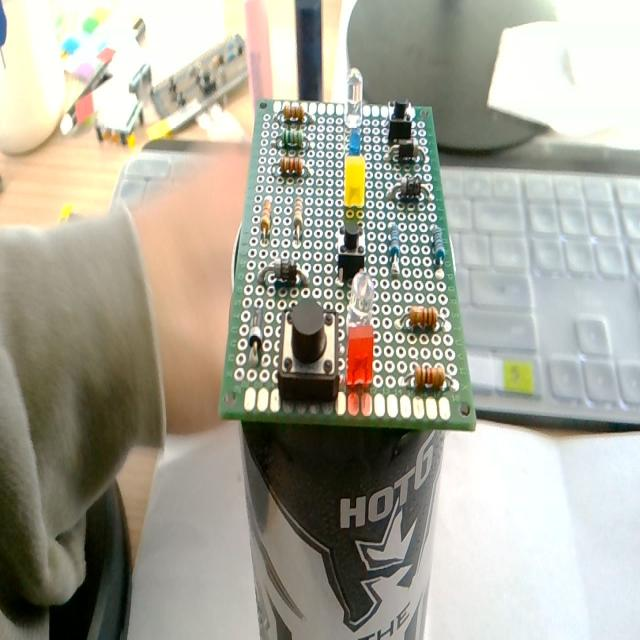diode: (258, 258, 308, 288), (246, 304, 264, 366), (386, 177, 427, 204), (385, 142, 424, 168)
led: (345, 322, 376, 388), (344, 155, 366, 207), (345, 67, 363, 130)
resistor: (406, 362, 454, 391), (399, 303, 440, 335), (271, 130, 311, 146), (389, 224, 400, 277), (432, 226, 446, 264), (280, 155, 303, 177), (261, 197, 273, 239), (293, 196, 303, 238), (284, 102, 303, 121)
switch: (276, 301, 340, 405), (337, 220, 364, 282), (387, 98, 413, 145)
